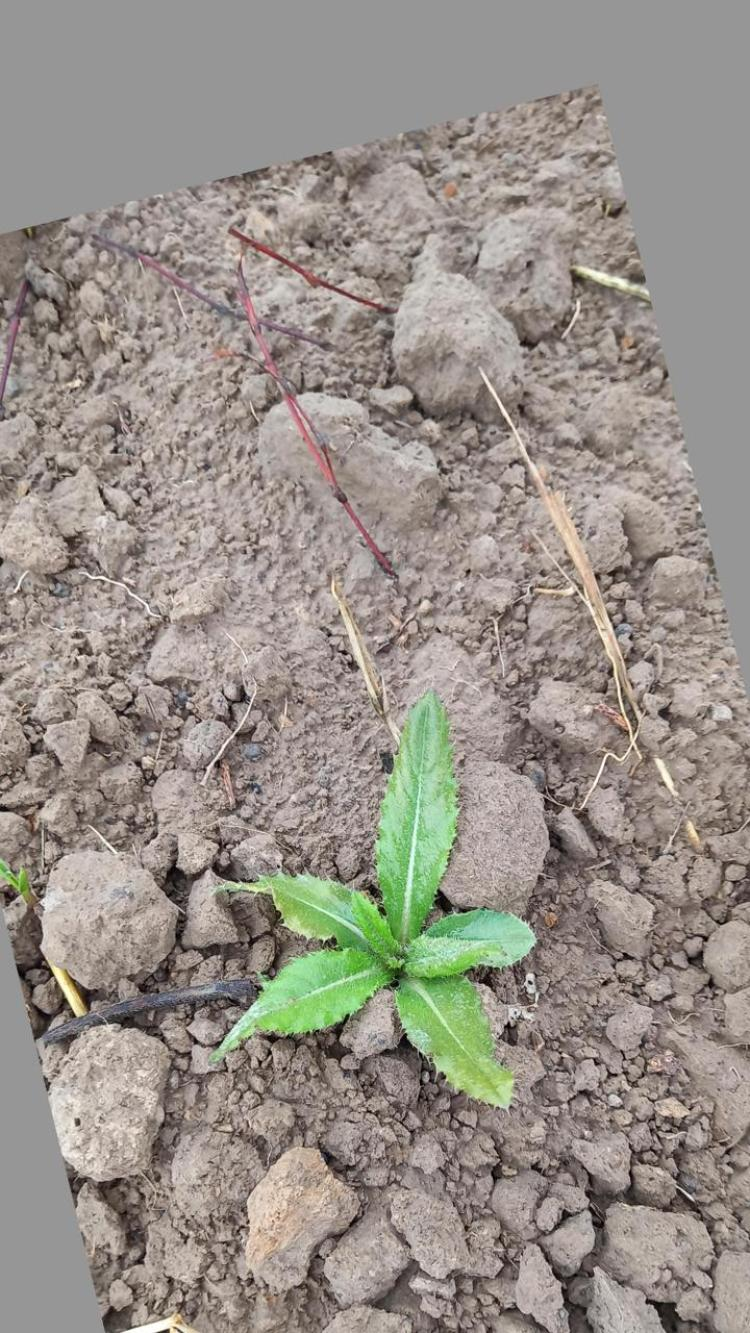bodyak: (215, 690, 540, 1114)
